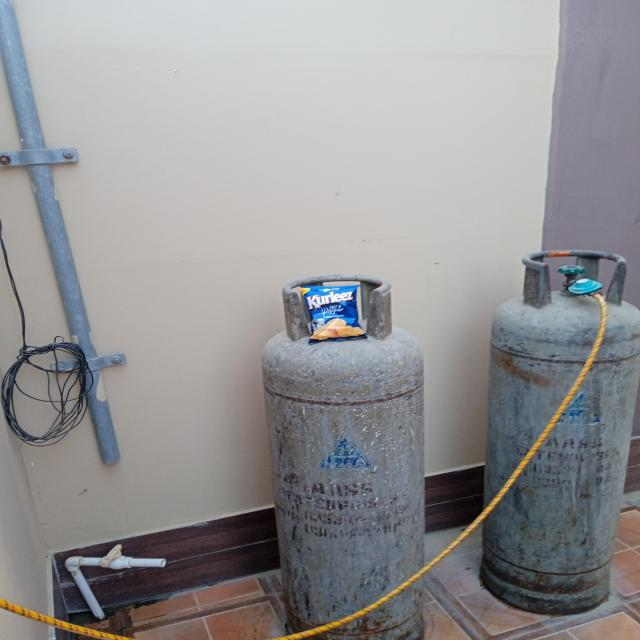Plastic: (300, 280, 364, 342)
